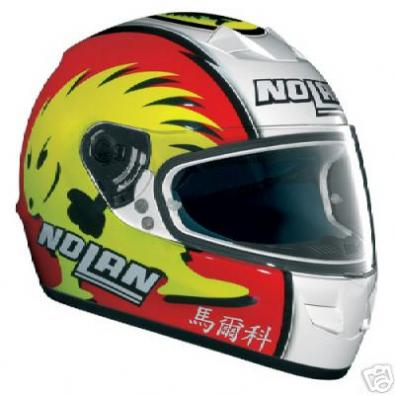helmet: (29, 22, 372, 353)
